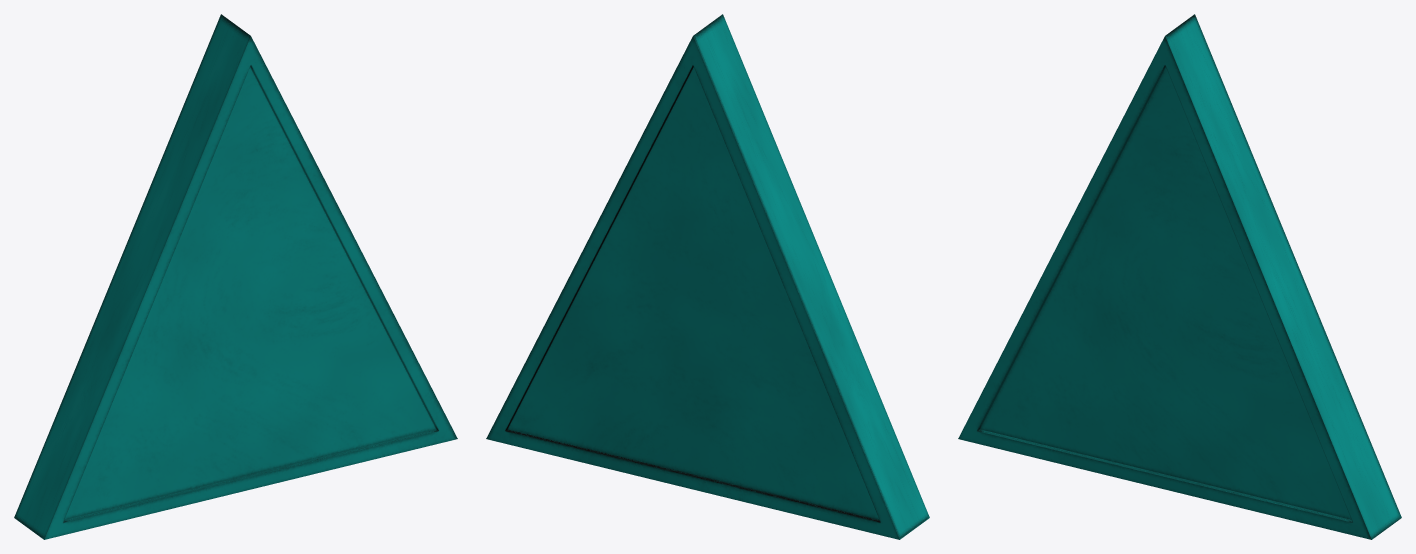
The model's file is triangle_symbol.fbx.
3 renders of one model, left to right at view 1: azimuth 30°, elevation 25°; view 2: azimuth 150°, elevation 25°; view 3: azimuth 330°, elevation 25°, orthographic.
Visible parts, largest first — view 1: triangle; view 2: triangle; view 3: triangle.
Part boxes in pixels (<box>): triangle: <box>14,14,457,539</box>; triangle: <box>486,14,929,539</box>; triangle: <box>958,14,1401,539</box>.
Size of the model in its own units: 180 by 189 by 22.77.
